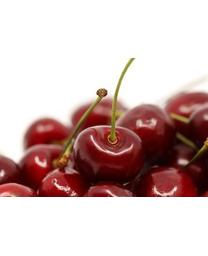cherry: (117, 103, 177, 171), (75, 124, 143, 182), (18, 146, 77, 189)
